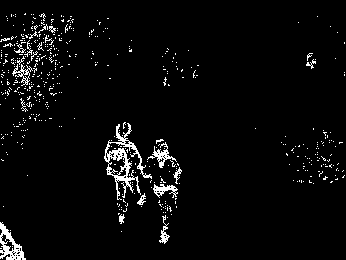person: (105, 118, 146, 223), (149, 133, 185, 243)
